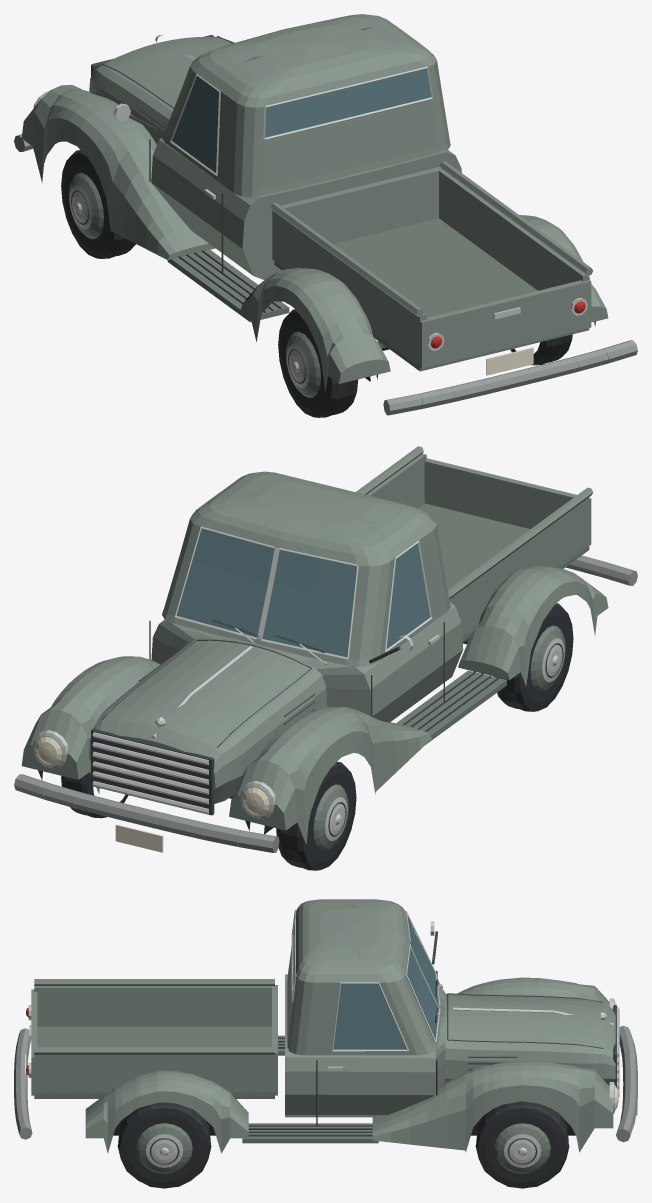
File: 14_pickup_51.glb
3 renders of one model, top to bottom at view 1: azimuth 30°, elevation 25°; view 2: azimuth 150°, elevation 25°; view 3: azimuth 270°, elevation 25°, orthographic. The views are drawn at different scales.
Parts seen in each view (by area): view 1: Body, Exterior_Details, Wheel_RL, Wheel_FL, Fine_Details, Wheel_RR; view 2: Body, Exterior_Details, Wheel_FL, Wheel_RL, Fine_Details, Wheel_FR; view 3: Body, Wheel_FR, Wheel_RR, Exterior_Details, Fine_Details.
Part boxes in pixels (x1,y1,x2,y2): Body: [21, 14, 608, 392]; Exterior_Details: [14, 35, 637, 415]; Wheel_RL: [278, 309, 358, 417]; Wheel_FL: [61, 150, 135, 258]; Fine_Details: [27, 25, 595, 379]; Wheel_RR: [510, 334, 572, 365]; Body: [21, 446, 608, 844]; Exterior_Details: [14, 555, 637, 852]; Wheel_FL: [276, 761, 356, 870]; Wheel_RL: [494, 603, 573, 711]; Fine_Details: [38, 492, 499, 830]; Wheel_FR: [61, 772, 128, 818]; Body: [31, 899, 615, 1153]; Wheel_FR: [475, 1101, 569, 1188]; Wheel_RR: [117, 1102, 211, 1188]; Exterior_Details: [14, 921, 637, 1142]; Fine_Details: [232, 910, 609, 1136].
Bounding box in the file's own units: 2.19 × 1.92 × 5.05.
